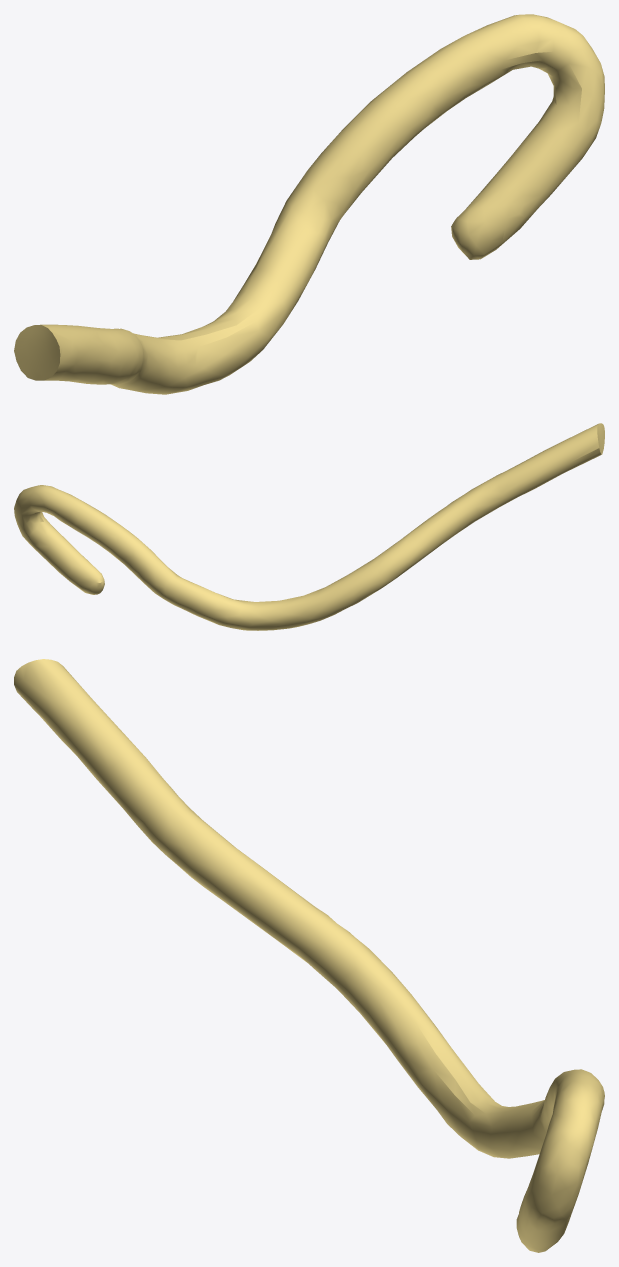
The model's file is fma53420_mm2607m.glb.
The picture shows the model from 3 angles, top to bottom: view 1: azimuth 30°, elevation 25°; view 2: azimuth 150°, elevation 25°; view 3: azimuth 270°, elevation 25°; orthographic projection. The views are drawn at different scales.
Parts seen in each view (by area): view 1: FMA53420_MM2607M; view 2: FMA53420_MM2607M; view 3: FMA53420_MM2607M.
Boxes of the visible parts, <box> form: FMA53420_MM2607M: <box>14,14,604,394</box>; FMA53420_MM2607M: <box>14,423,604,630</box>; FMA53420_MM2607M: <box>14,659,604,1252</box>.
Bounding box in the file's own units: 0.0192 × 0.00692 × 0.0125.
